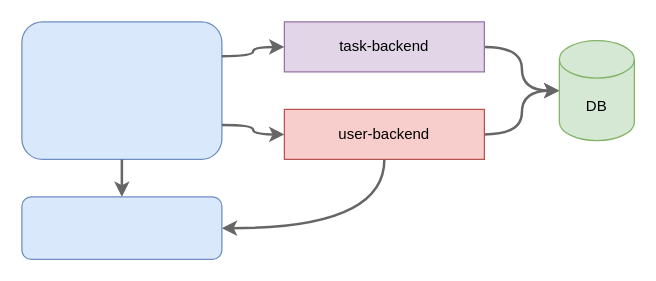
Some shapes in this 656 by 281 pixel diagram are drawn without their labels. Each missing label, with the centre of its shape:
auth-provider: the point at 121,227
Frontend: the point at 121,90
